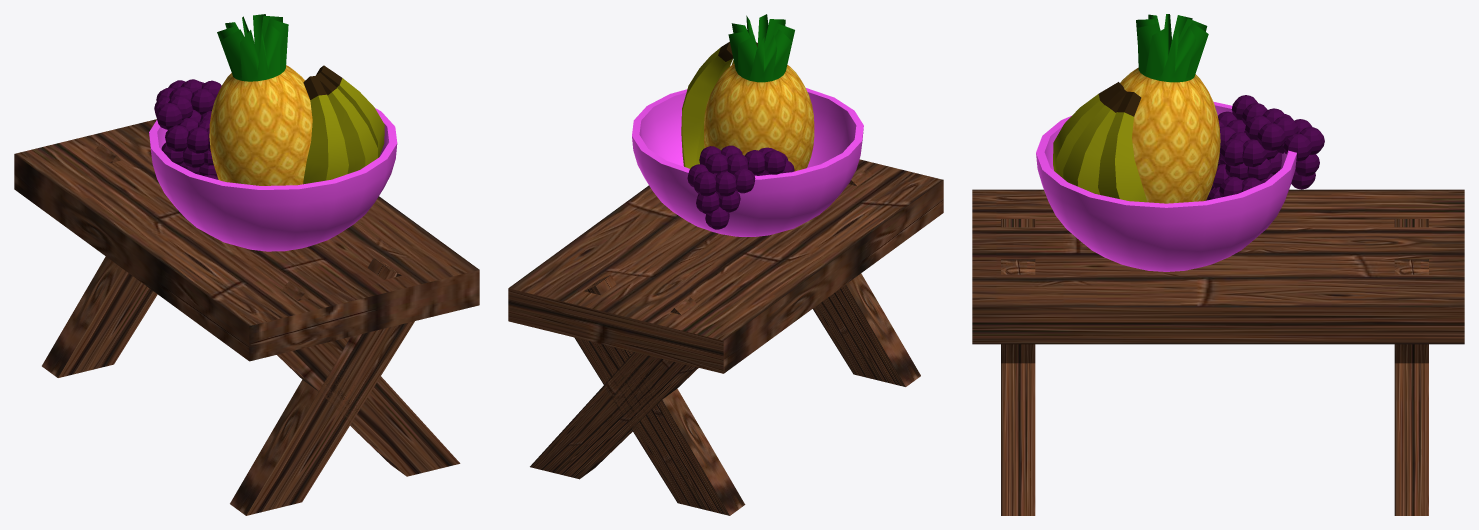
The model's file is SideTable.obj.
The picture shows the model from 3 angles, left to right: view 1: azimuth 30°, elevation 25°; view 2: azimuth 150°, elevation 25°; view 3: azimuth 270°, elevation 25°; orthographic projection. The views are drawn at different scales.
Parts seen in each view (by area): view 1: SideTable TableTop, SideTable FruitBowl, SideTable Pineapple, SideTable Leg3, SideTable Leg4, SideTable Leg1, SideTable Banana3, SideTable Banana2, SideTable Banana1, SideTable Grapes1 pSphere60; view 2: SideTable TableTop, SideTable FruitBowl, SideTable Pineapple, SideTable Leg1, Leg2 SideTable, SideTable Leg3, SideTable Banana1; view 3: SideTable TableTop, SideTable FruitBowl, SideTable Pineapple, Leg2 SideTable, SideTable Leg4, SideTable Banana1, SideTable Banana2, SideTable Banana3, SideTable Leg3, SideTable Leg1, SideTable Grapes1 pSphere55, SideTable Grapes1 pSphere61.
Part boxes in pixels (box(x1,y1,x2,y2)): SideTable TableTop: box(14, 119, 479, 361); SideTable FruitBowl: box(149, 108, 397, 251); SideTable Pineapple: box(209, 14, 312, 185); SideTable Leg3: box(230, 258, 414, 515); SideTable Leg4: box(277, 281, 460, 476); SideTable Leg1: box(42, 256, 157, 377); SideTable Banana3: box(303, 75, 348, 184); SideTable Banana2: box(316, 72, 377, 173); SideTable Banana1: box(316, 65, 384, 157); SideTable Grapes1 pSphere60: box(156, 103, 182, 129); SideTable TableTop: box(508, 159, 943, 373); SideTable FruitBowl: box(632, 88, 863, 236); SideTable Pineapple: box(704, 14, 814, 171); SideTable Leg1: box(574, 275, 745, 515); Leg2 SideTable: box(530, 296, 698, 479); SideTable Leg3: box(813, 273, 920, 386); SideTable Banana1: box(681, 41, 733, 168); SideTable TableTop: box(972, 189, 1464, 344); SideTable FruitBowl: box(1036, 101, 1296, 271); SideTable Pineapple: box(1120, 14, 1220, 203); Leg2 SideTable: box(1394, 219, 1428, 515); SideTable Leg4: box(1001, 219, 1035, 515); SideTable Banana1: box(1098, 91, 1146, 202); SideTable Banana2: box(1063, 88, 1126, 194); SideTable Banana3: box(1053, 82, 1124, 178); SideTable Leg3: box(1001, 259, 1035, 363); SideTable Leg1: box(1394, 259, 1428, 363); SideTable Grapes1 pSphere55: box(1257, 123, 1285, 151); SideTable Grapes1 pSphere61: box(1283, 133, 1311, 161).
Bounding box in the file's own units: 4.09 × 7.03 × 7.23.
8 materials, 3 textured.
